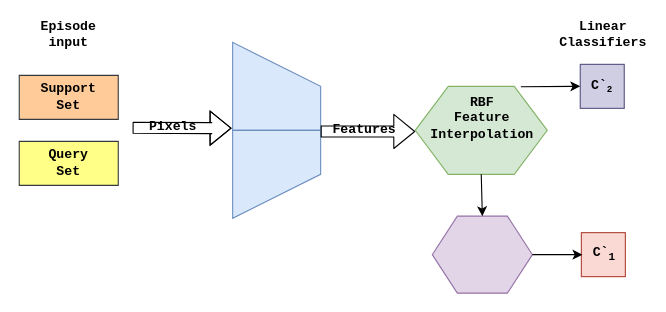
The diagram is 666 pixels wide and 312 high, and some of its shapes have lost their labels. The centre of each missing label's shape, as x and y in pixels:
"Backbone Network" goes at [276,85].
"Label Propogation" goes at [481,254].
